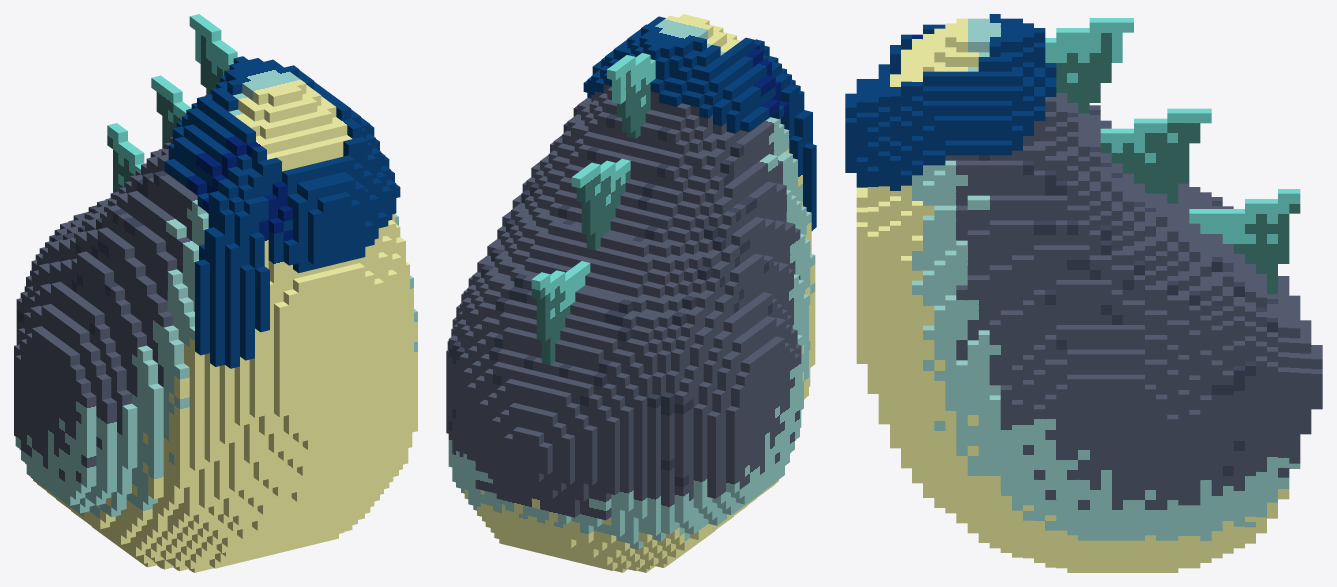
The model's file is blue scarf.gltf.
The picture shows the model from 3 angles, left to right: view 1: azimuth 30°, elevation 25°; view 2: azimuth 150°, elevation 25°; view 3: azimuth 270°, elevation 25°; orthographic projection. The views are drawn at different scales.
Parts seen in each view (by area): view 1: 03_Body_BlueScarf-Mesh; view 2: 03_Body_BlueScarf-Mesh; view 3: 03_Body_BlueScarf-Mesh.
Boxes of the visible parts, x1,y1,x2,y2 form: 03_Body_BlueScarf-Mesh: (14,14,417,572); 03_Body_BlueScarf-Mesh: (446,14,816,572); 03_Body_BlueScarf-Mesh: (845,14,1322,572).
Size of the model in its own units: 33 by 51 by 43.
1 material, 1 textured.
